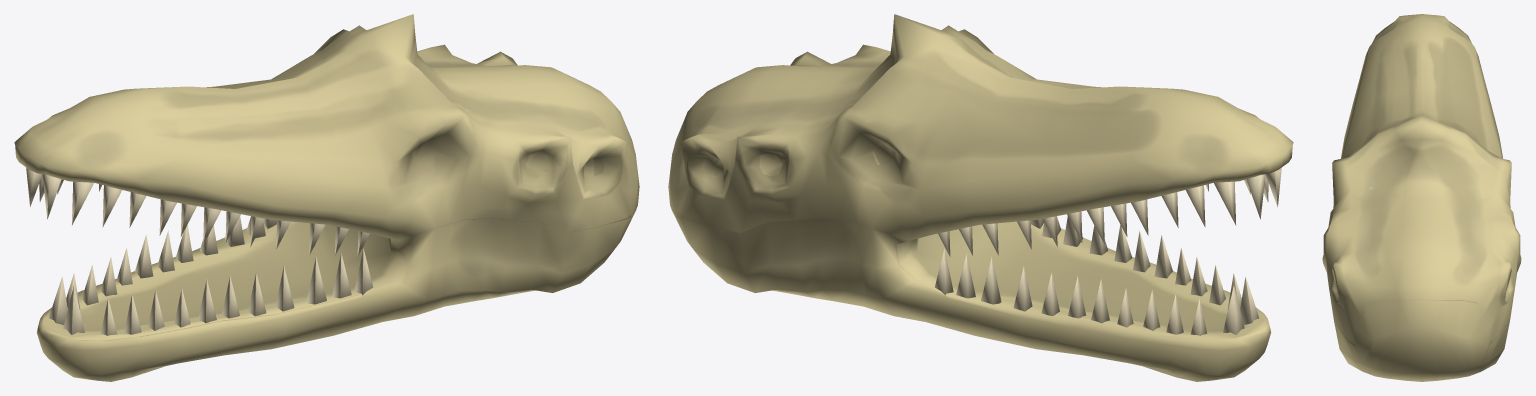
Rendered from LeviathenSkull.fbx.
3 renders of one model, left to right at view 1: azimuth 30°, elevation 25°; view 2: azimuth 150°, elevation 25°; view 3: azimuth 270°, elevation 25°, orthographic. The views are drawn at different scales.
Parts seen in each view (by area): view 1: Leviathen-1.001, Leviathen-1; view 2: Leviathen-1.001, Leviathen-1; view 3: Leviathen-1.001.
Part boxes in pixels (<box>): Leviathen-1.001: <box>14,14,639,381</box>; Leviathen-1: <box>26,167,373,335</box>; Leviathen-1.001: <box>668,14,1293,381</box>; Leviathen-1: <box>934,167,1281,335</box>; Leviathen-1.001: <box>1322,14,1521,381</box>.
Size of the model in its own units: 1969 by 872 by 754.
